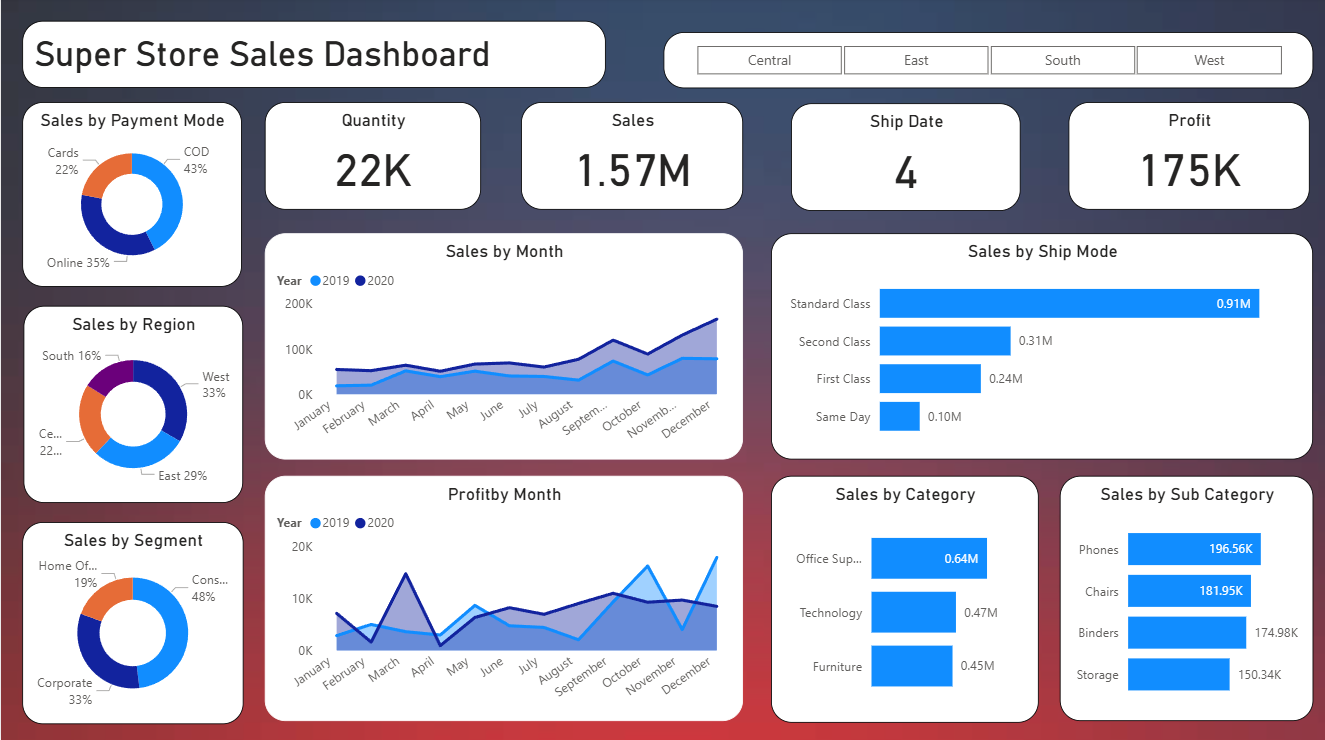

This screenshot's page, from the dashboard's own definition file:
{"tool":"powerbi","page":{"name":"Page 1","canvas":[1280,720],"ordinal":0},"visuals":[{"type":"clusteredBarChart","title":"Sales by Sub Category","fields":{"Y":["Sum(SuperStore_Sales_Dataset (2).Sales)"],"Category":["SuperStore_Sales_Dataset (2).Sub-Category"]},"box":[1021.7,461.7,245,236.7],"z":0},{"type":"clusteredBarChart","title":"Sales by Category","fields":{"Y":["Sum(SuperStore_Sales_Dataset (2).Sales)"],"Category":["SuperStore_Sales_Dataset (2).Category"]},"box":[743.3,461.7,258.3,238.3],"z":2000},{"type":"clusteredBarChart","title":"Sales by Ship Mode","fields":{"Y":["Sum(SuperStore_Sales_Dataset (2).Sales)"],"Category":["SuperStore_Sales_Dataset (2).Ship Mode"]},"box":[743.2,228,523.6,218.4],"z":3000},{"type":"card","title":"Ship Date","fields":{"Values":["Avg(SuperStore_Sales_Dataset (2).AvgDelivery)"]},"box":[762.5,102.5,222,103.8],"z":4000},{"type":"card","title":"Sales","fields":{"Values":["Sum(SuperStore_Sales_Dataset (2).Sales)"]},"box":[501.9,101.3,214.7,103.8],"z":5000},{"type":"card","title":"Quantity","fields":{"Values":["Sum(SuperStore_Sales_Dataset (2).Quantity)"]},"box":[254.6,101.3,208.7,103.8],"z":6000},{"type":"donutChart","title":"Sales by Payment Mode","fields":{"Y":["Sum(SuperStore_Sales_Dataset (2).Sales)"],"Category":["SuperStore_Sales_Dataset (2).Payment Mode"]},"box":[20,101.7,211.7,178.3],"z":7000},{"type":"donutChart","title":"Sales by Region","fields":{"Y":["Sum(SuperStore_Sales_Dataset (2).Sales)"],"Category":["SuperStore_Sales_Dataset (2).Region"]},"box":[21.7,298.3,211.7,190],"z":8000},{"type":"donutChart","title":"Sales by Segment","fields":{"Y":["Sum(SuperStore_Sales_Dataset (2).Sales)"],"Category":["SuperStore_Sales_Dataset (2).Segment"]},"box":[20,506.7,213.3,195],"z":9000},{"type":"slicer","fields":{"Values":["SuperStore_Sales_Dataset (2).Region"]},"box":[639.4,33.8,627.3,54.3],"z":10000},{"type":"textbox","box":[20,23.3,563.3,65],"z":11000},{"type":"areaChart","title":"Sales by Month","fields":{"Series":["SuperStore_Sales_Dataset (2).Order Date.Variation.Date Hierarchy.Year"],"Y":["Sum(SuperStore_Sales_Dataset (2).Sales)"],"Category":["SuperStore_Sales_Dataset (2).Order Date.Variation.Date Hierarchy.Month","SuperStore_Sales_Dataset (2).Order Date.Variation.Date Hierarchy.Day"]},"box":[255,228.3,461.7,218.3],"z":12000},{"type":"card","title":"Profit","fields":{"Values":["Sum(SuperStore_Sales_Dataset (2).Profit)"]},"box":[1030.3,101.3,232.8,103.8],"z":13000},{"type":"areaChart","title":"Profitby Month","fields":{"Category":["SuperStore_Sales_Dataset (2).Order Date.Variation.Date Hierarchy.Month"],"Series":["SuperStore_Sales_Dataset (2).Order Date.Variation.Date Hierarchy.Year"],"Y":["Sum(SuperStore_Sales_Dataset (2).Profit)"]},"box":[255,461.7,461.7,236.7],"z":14000}]}

Visuals, with their boxes in screenshot pixels (x1, y1, x2, y2), scaled from the page's 1280x720 canvas onto the 1325x740 screenshot:
"Sales by Sub Category" clusteredBarChart: rect(1058, 475, 1311, 718)
"Sales by Category" clusteredBarChart: rect(769, 475, 1037, 719)
"Sales by Ship Mode" clusteredBarChart: rect(769, 234, 1311, 459)
"Ship Date" card: rect(789, 105, 1019, 212)
"Sales" card: rect(520, 104, 742, 211)
"Quantity" card: rect(264, 104, 480, 211)
"Sales by Payment Mode" donutChart: rect(21, 105, 240, 288)
"Sales by Region" donutChart: rect(22, 307, 242, 502)
"Sales by Segment" donutChart: rect(21, 521, 242, 721)
slicer - SuperStore_Sales_Dataset (2).Region: rect(662, 35, 1311, 91)
textbox: rect(21, 24, 604, 91)
"Sales by Month" areaChart: rect(264, 235, 742, 459)
"Profit" card: rect(1067, 104, 1308, 211)
"Profitby Month" areaChart: rect(264, 475, 742, 718)
